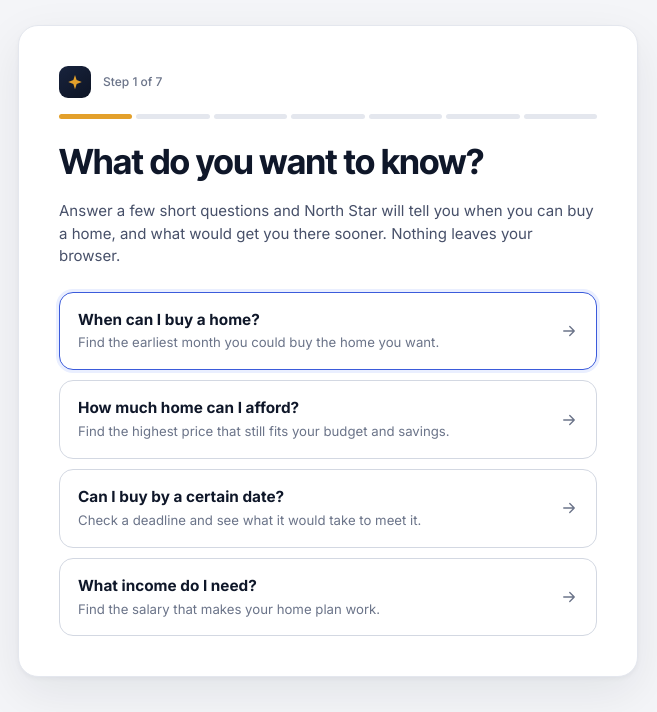
guided setup › shows one step at a time and keeps edited numbers going back
Click the button that starts with "When can I buy a home?" at (169, 319), box [59, 292, 597, 370]
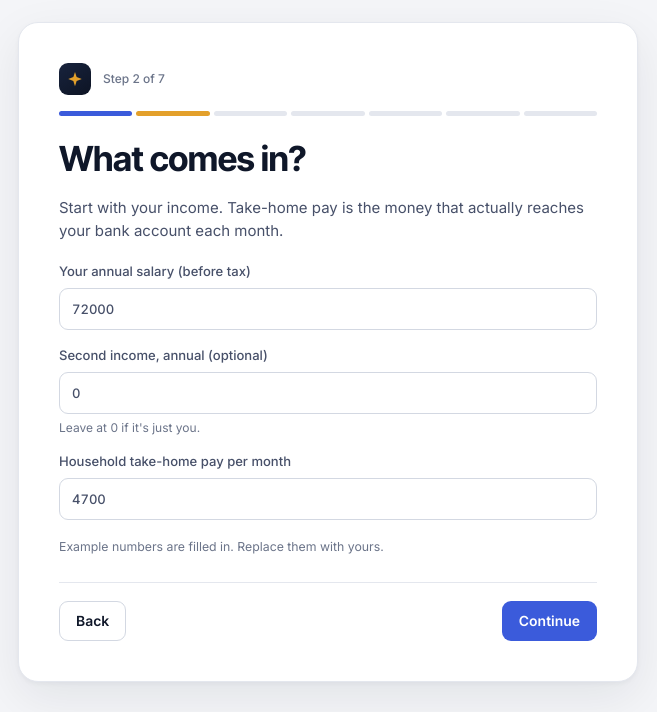
Expected: the heading "What comes in?" is shown, [59, 138, 306, 179]
Replace the text in the number field labelled "Household take-home pay per month" with "8000" at (328, 499), box [59, 478, 597, 520]
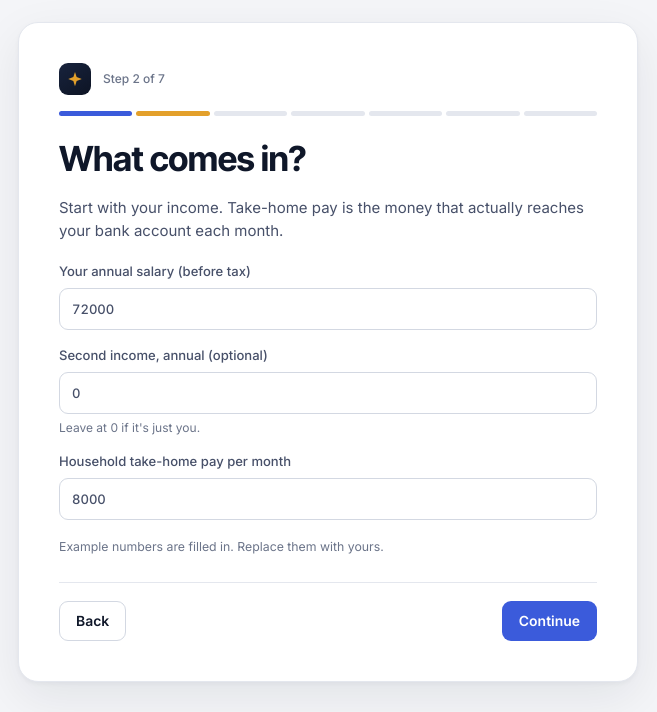
Click the button "Continue" at (549, 621), box [502, 601, 597, 641]
(page scrolled)
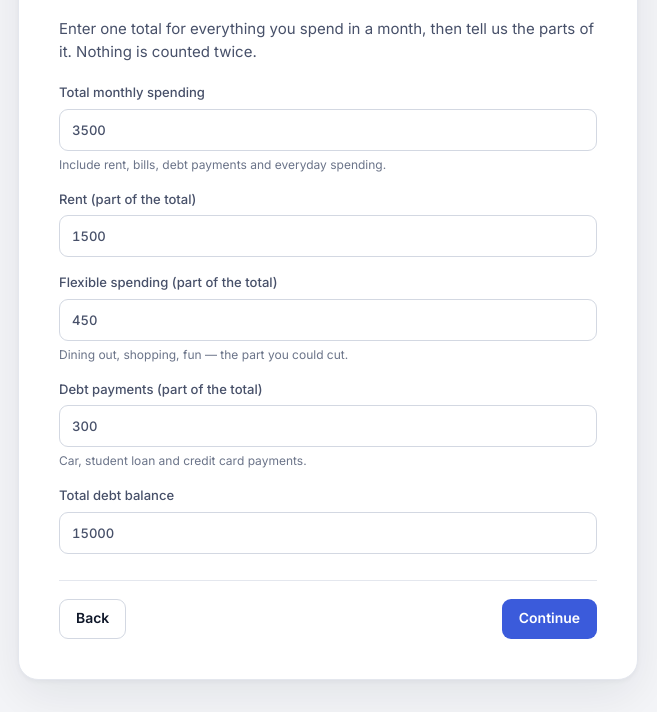
Click the button "Back" at (93, 619), box [59, 599, 126, 639]
(page scrolled)
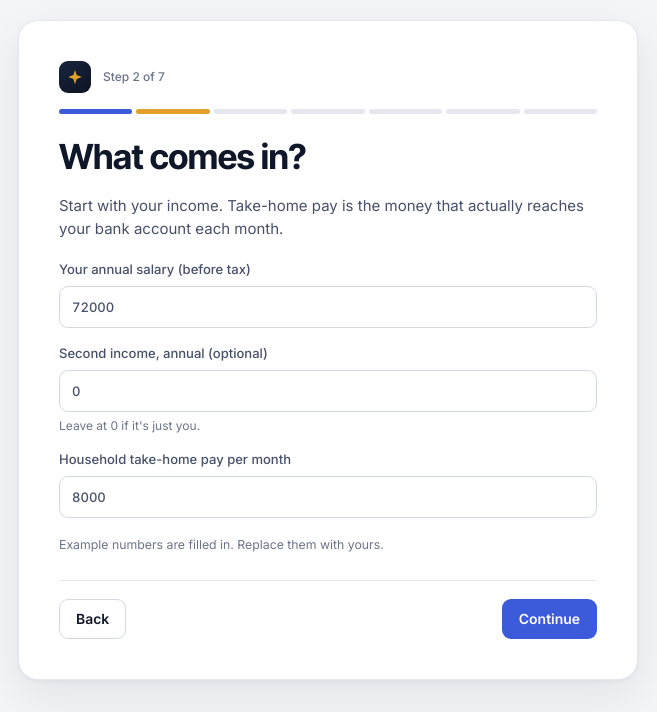
Expected: the number field labelled "Household take-home pay per month" holds "8000", [59, 476, 597, 518]
